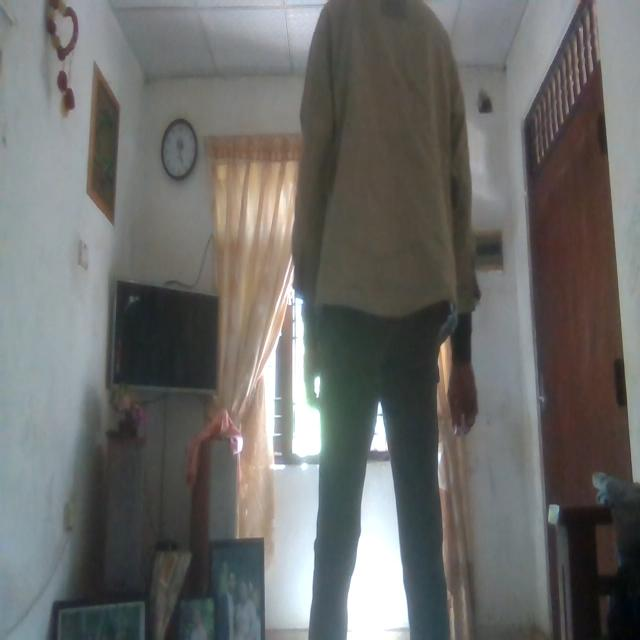Jacket_Wearer: (299, 2, 481, 346)
Person: (294, 0, 471, 636)
